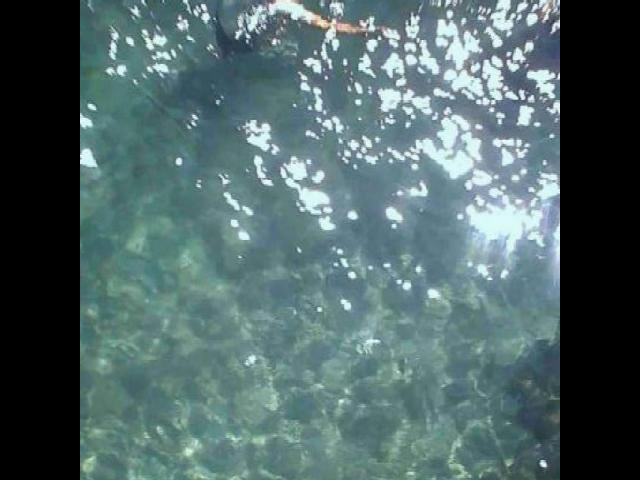swimming: (202, 0, 368, 84)
